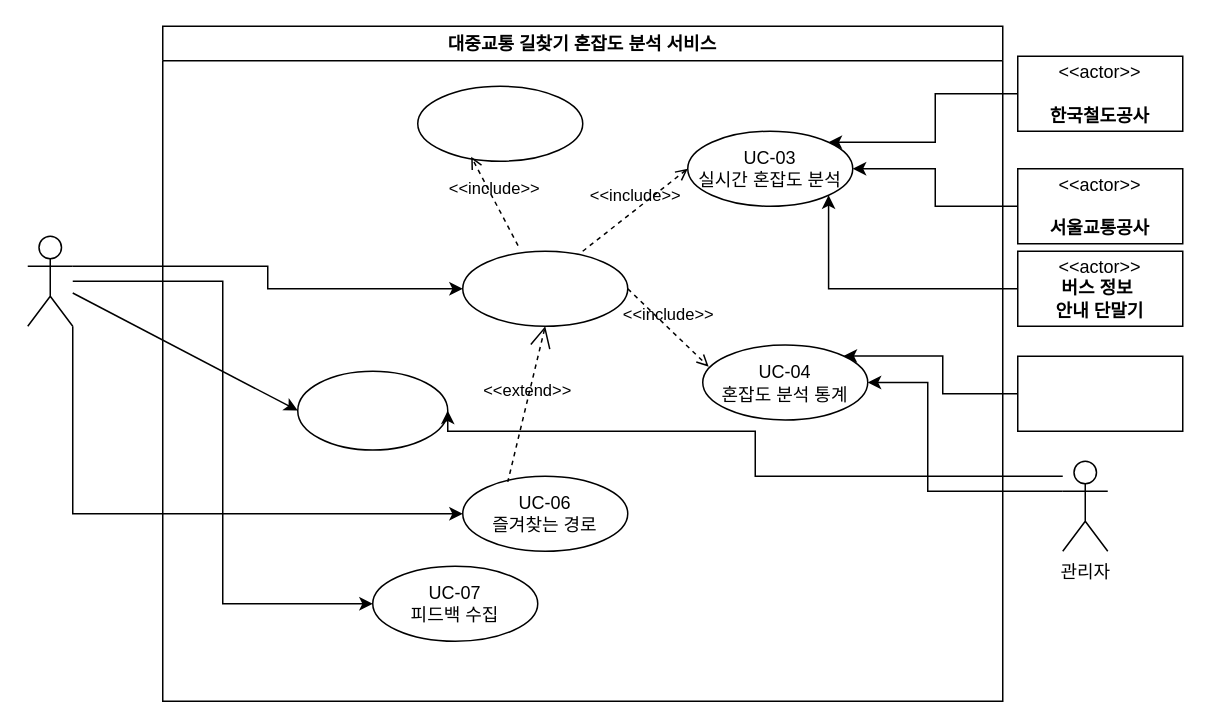
The diagram is 1209 pixels wide and 728 high, and some of its shapes have lost their labels. Each missing label, with the centre of its shape:
"<<actor>> 서울시" belongs at (1099,393).
"UC-01 길찾기" belongs at (544,288).
"UC-02 길찾기 API" belongs at (499,123).
"UC-05 회원 가입" belongs at (372,410).
"사용자" belongs at (49,280).
